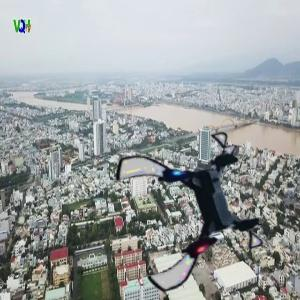drone: (119, 141, 263, 285)
